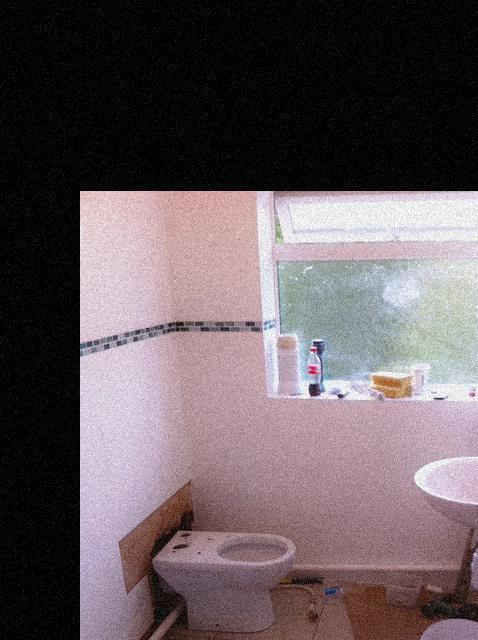Lavamanos: (415, 450, 478, 532)
Sanitario: (160, 523, 295, 638)
